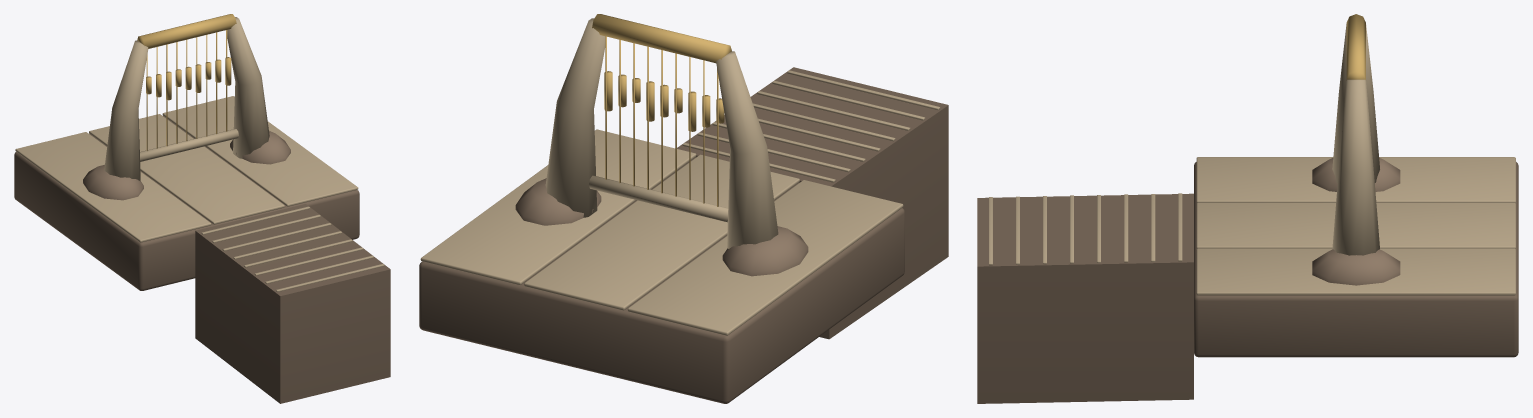
Rendered from discovery_windbone.glb.
The picture shows the model from 3 angles, left to right: view 1: azimuth 30°, elevation 25°; view 2: azimuth 150°, elevation 25°; view 3: azimuth 270°, elevation 25°; orthographic projection. The views are drawn at different scales.
Visible parts, largest first — view 1: discovery_windbone_part_0; view 2: discovery_windbone_part_0; view 3: discovery_windbone_part_0.
Part boxes in pixels (x1,y1,x2,y2): discovery_windbone_part_0: (14,14,390,403); discovery_windbone_part_0: (419,14,948,403); discovery_windbone_part_0: (977,14,1518,403).
Bounding box in the file's own units: 6 × 6.67 × 10.
